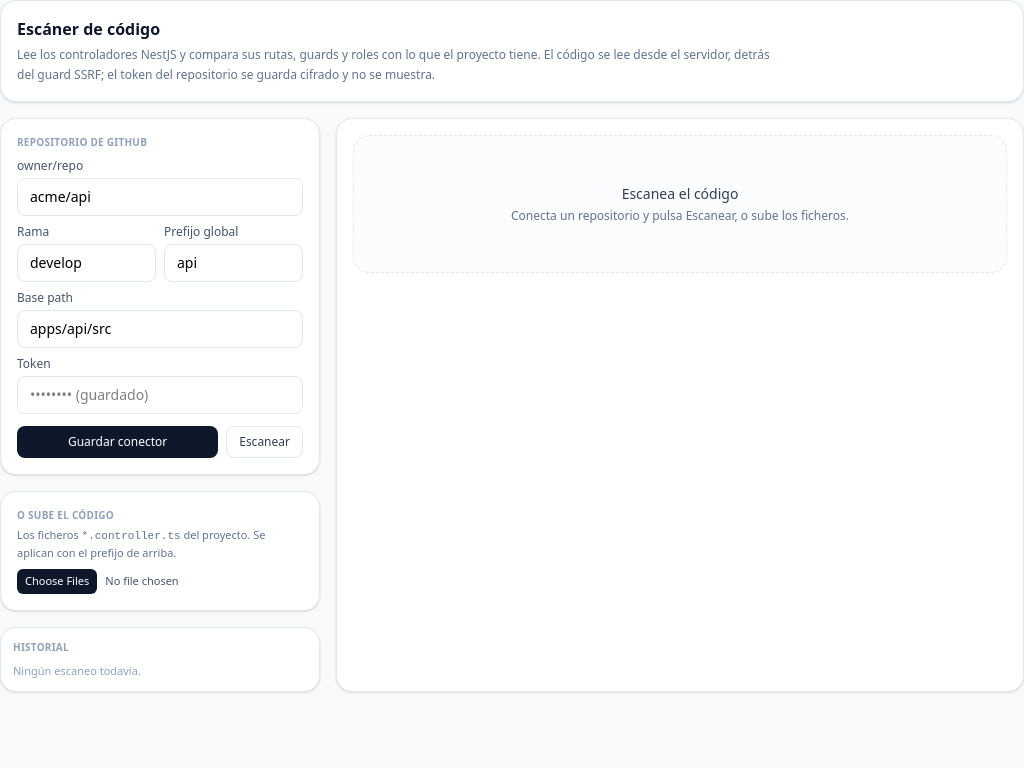
Scenario: el escáner de código › si guardar falla, el error se enseña
Expected: the field labelled "owner/repo" holds "acme/api", [17, 178, 303, 216]
Click the button "Guardar conector" at (118, 442), box [17, 426, 218, 458]
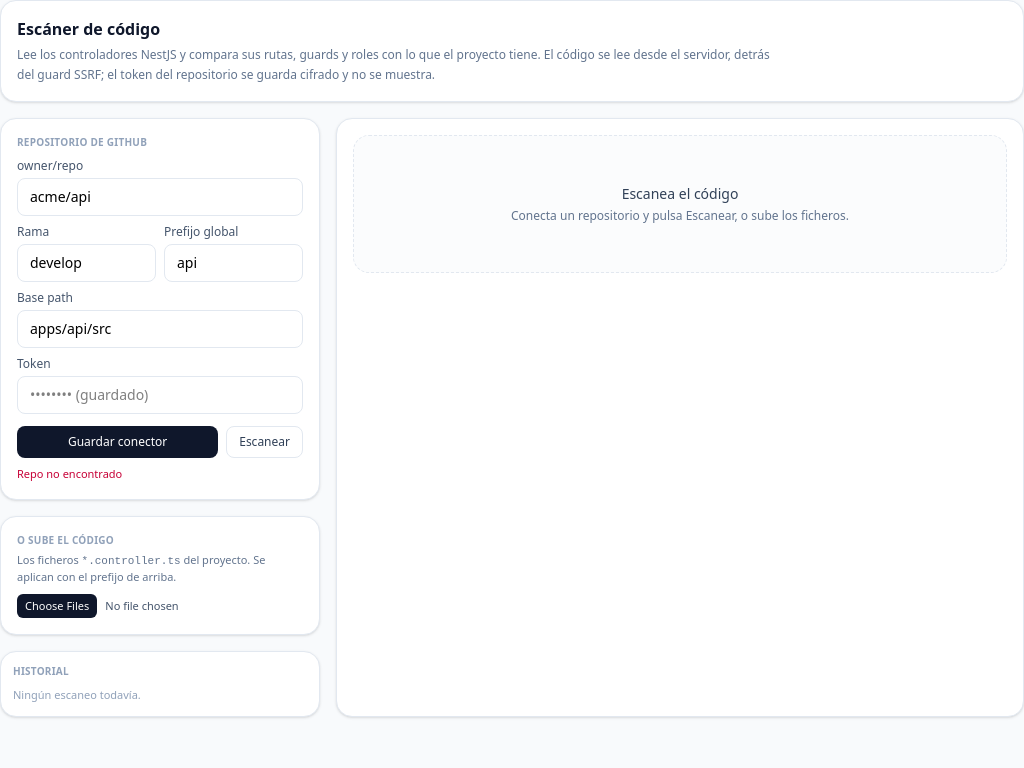
Result: the text "Repo no encontrado" is shown at [17, 466, 122, 481]
